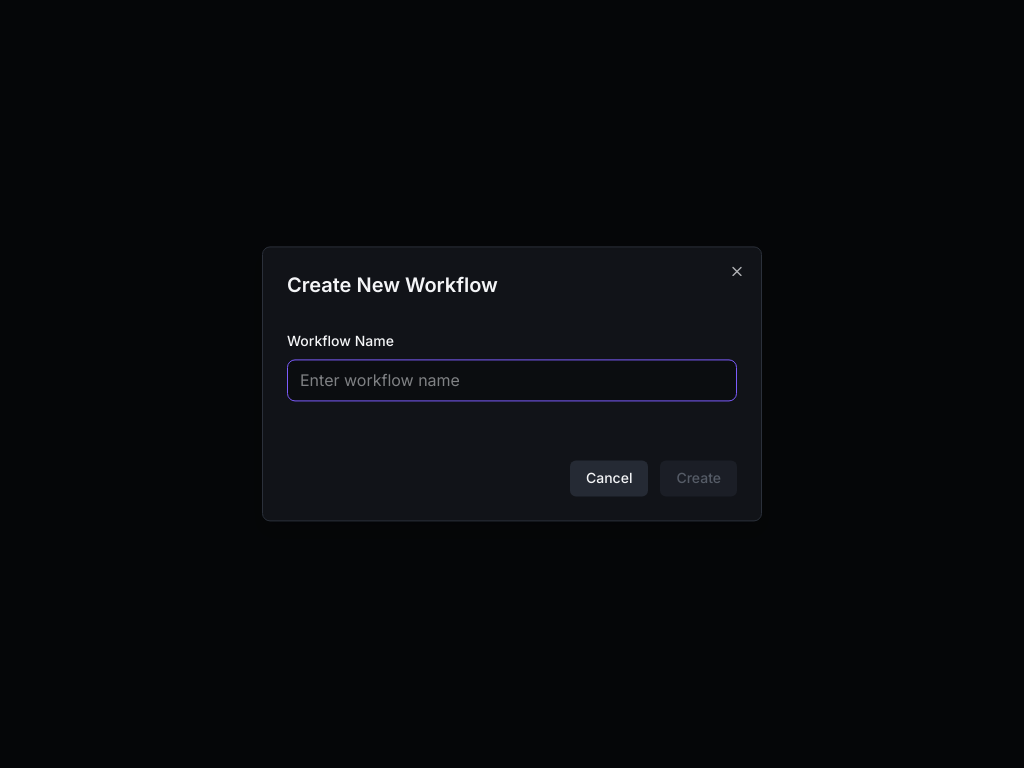
Test: CreateWorkflowModal Integration Tests › Input validation - empty name › should show error when input is empty
The image size is (1024, 768).
Note: Type and then delete
Type "a" into the field with placeholder "Enter workflow name".
click(512, 380); type("a")  # box [287,359,737,401]
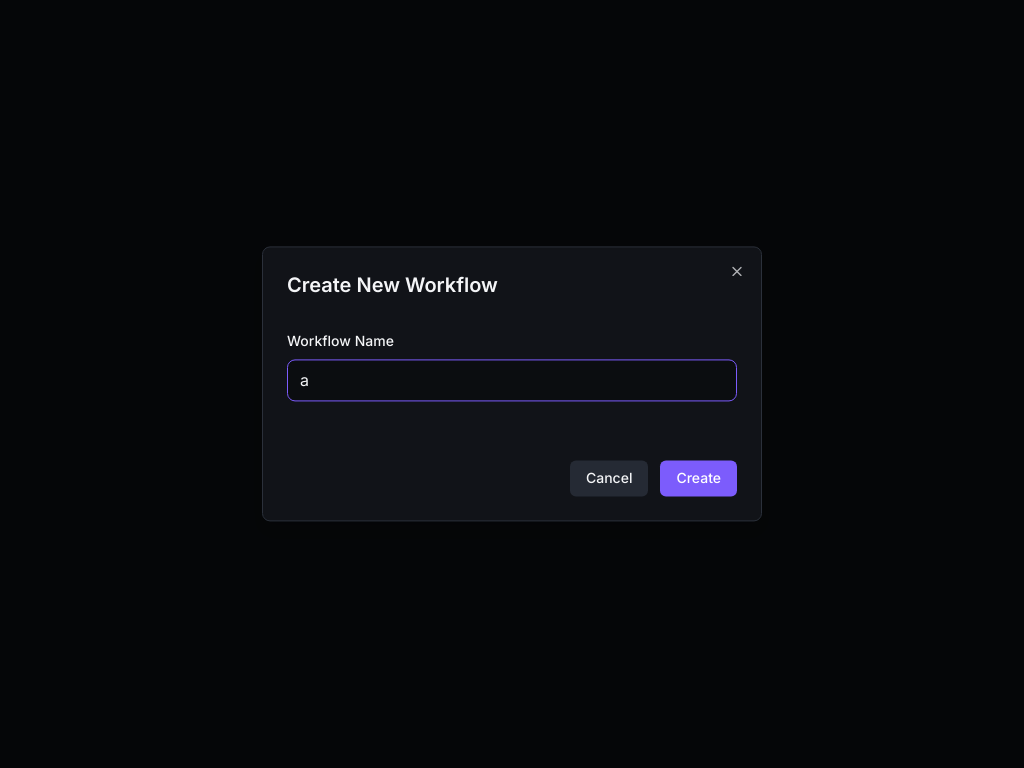
Clear the field with placeholder "Enter workflow name" at (512, 380), box [287,359,737,401]
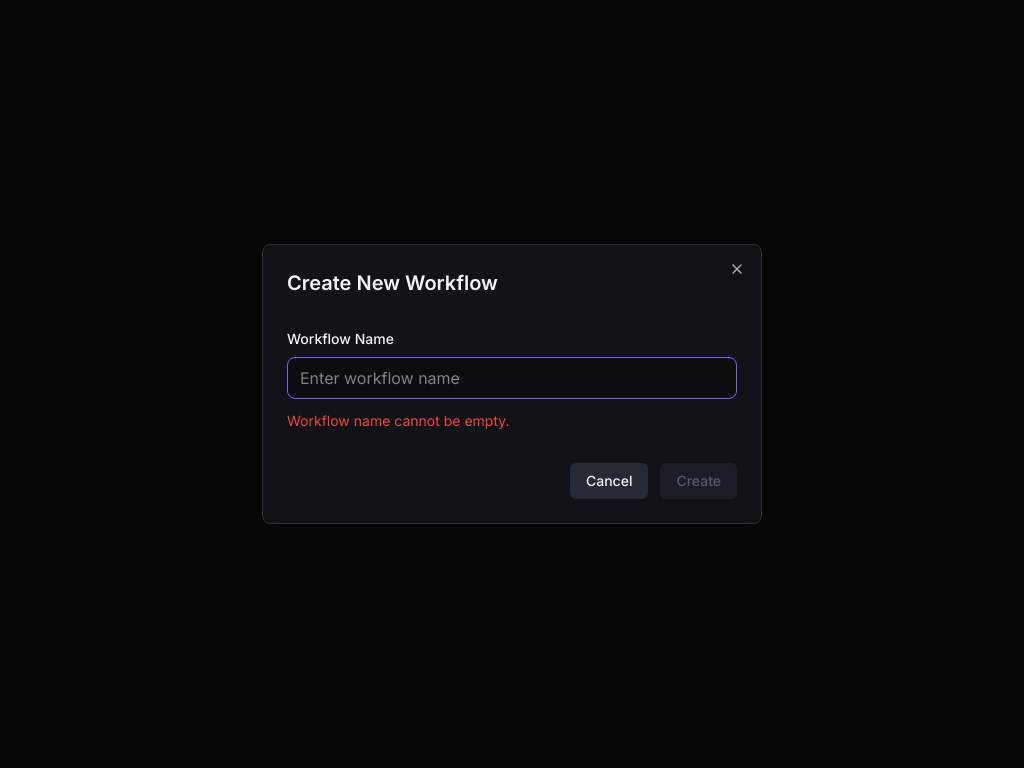
Expected: the text "Workflow name cannot be empty." is shown, [287,412,510,429]
